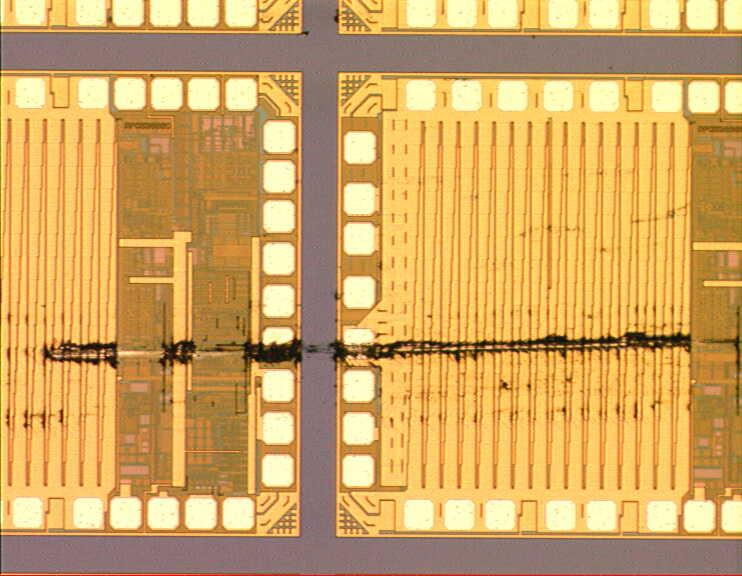SCRATCH: (29, 314, 742, 375)
